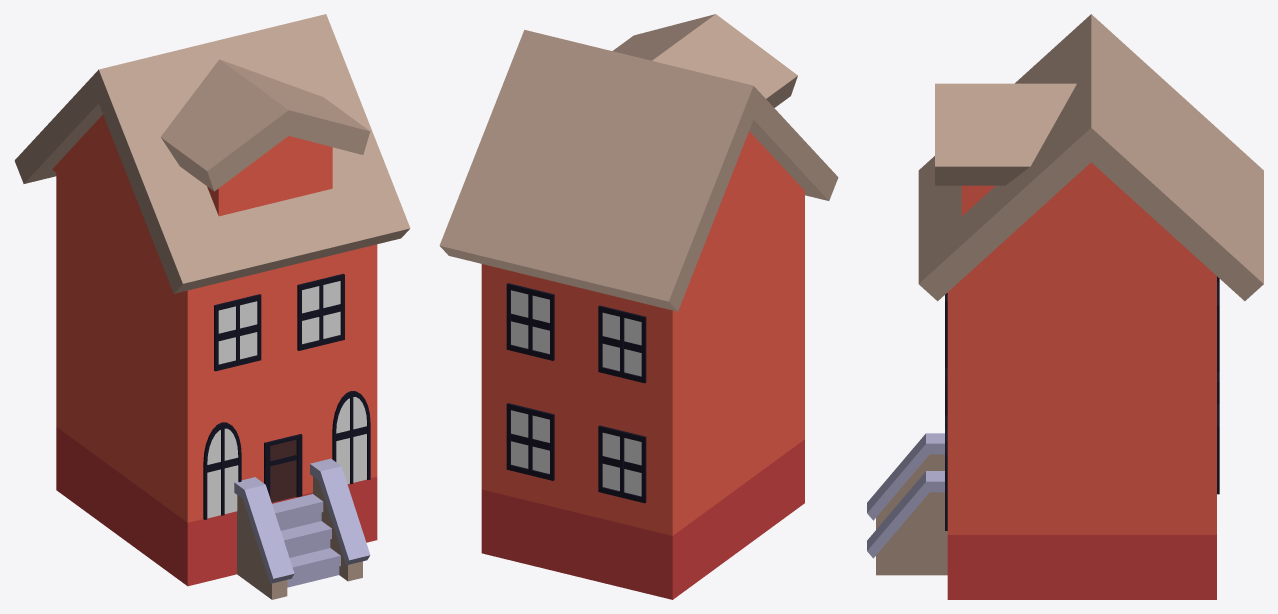
The model's file is radhus1.fbx.
3 renders of one model, left to right at view 1: azimuth 30°, elevation 25°; view 2: azimuth 150°, elevation 25°; view 3: azimuth 270°, elevation 25°, orthographic. The views are drawn at different scales.
Parts seen in each view (by area): view 1: block, roof_halfDormer, stairs_small, roof_half, window_wide (×2), door_rounded_wide (×2), door; view 2: block, roof_half, roof_halfDormer, window_wide (×4); view 3: block, roof_halfDormer, roof_half, stairs_small.
Boxes of the visible parts, x1,y1,x2,y2 form: block: (56,173,377,586); roof_halfDormer: (98,14,410,293); stairs_small: (234,458,370,599); roof_half: (14,70,117,217); window_wide (×2): (214,273,344,371); door_rounded_wide (×2): (203,391,370,519); door: (264,434,302,502); block: (481,186,804,599); roof_half: (439,29,753,311); roof_halfDormer: (612,14,838,234); window_wide (×4): (506,283,646,503); block: (947,274,1216,599); roof_halfDormer: (918,14,1091,301); roof_half: (1091,14,1263,300); stairs_small: (867,433,947,575).
Bounding box in the file's own units: 30 × 59.24 × 44.23.
